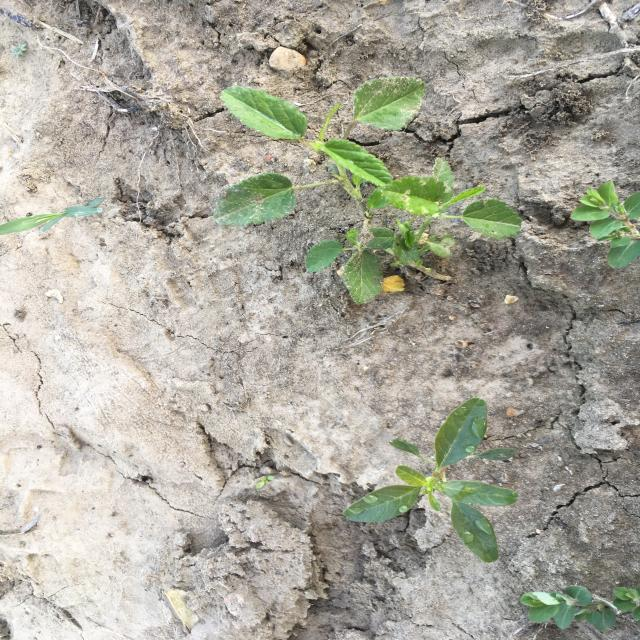PricklySida: (211, 76, 524, 307)
SpottedSpurge: (573, 180, 638, 272), (520, 585, 638, 633)
Waterhemp: (340, 398, 520, 564)
